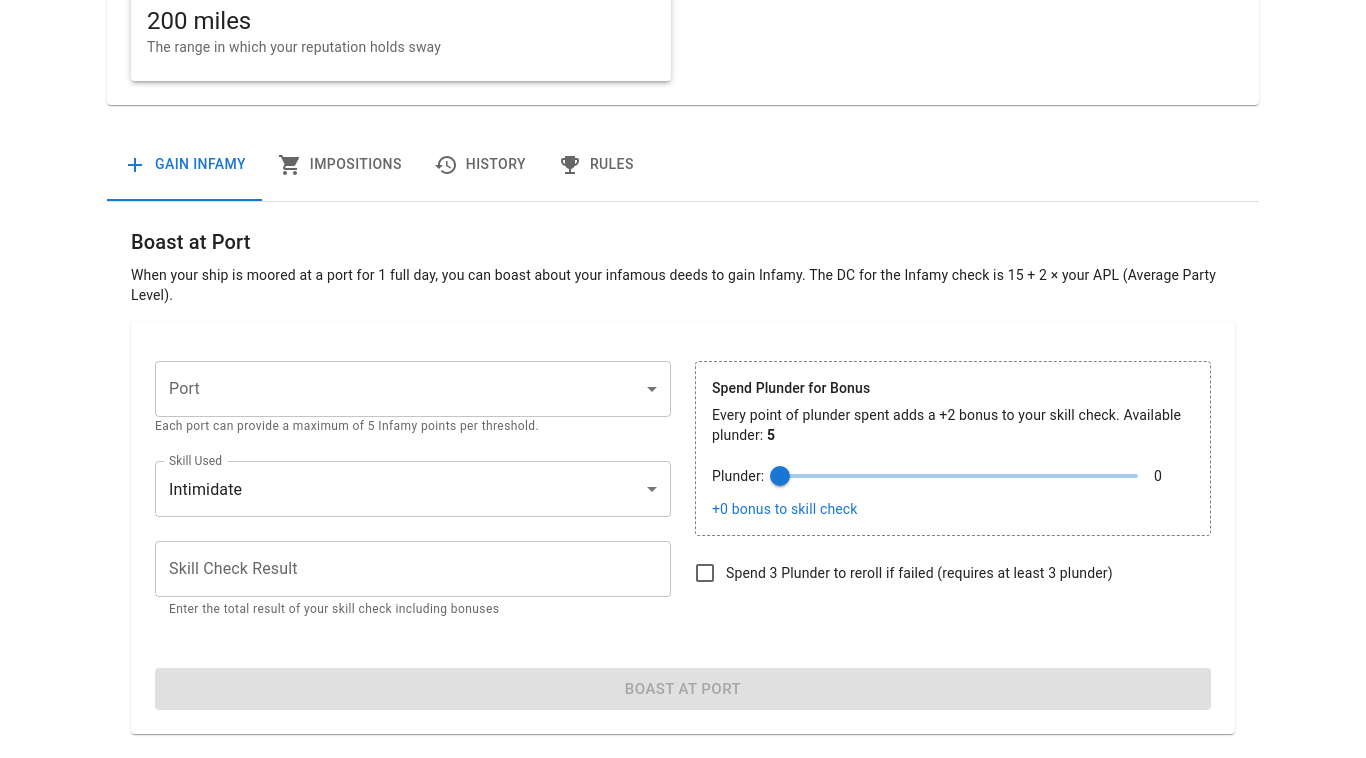
it: Infamy › posts a successful boast and shows the gain
(page scrolled)
Click the dropdown named "Port" at (413, 389), box [155,361,671,417]
(page scrolled)
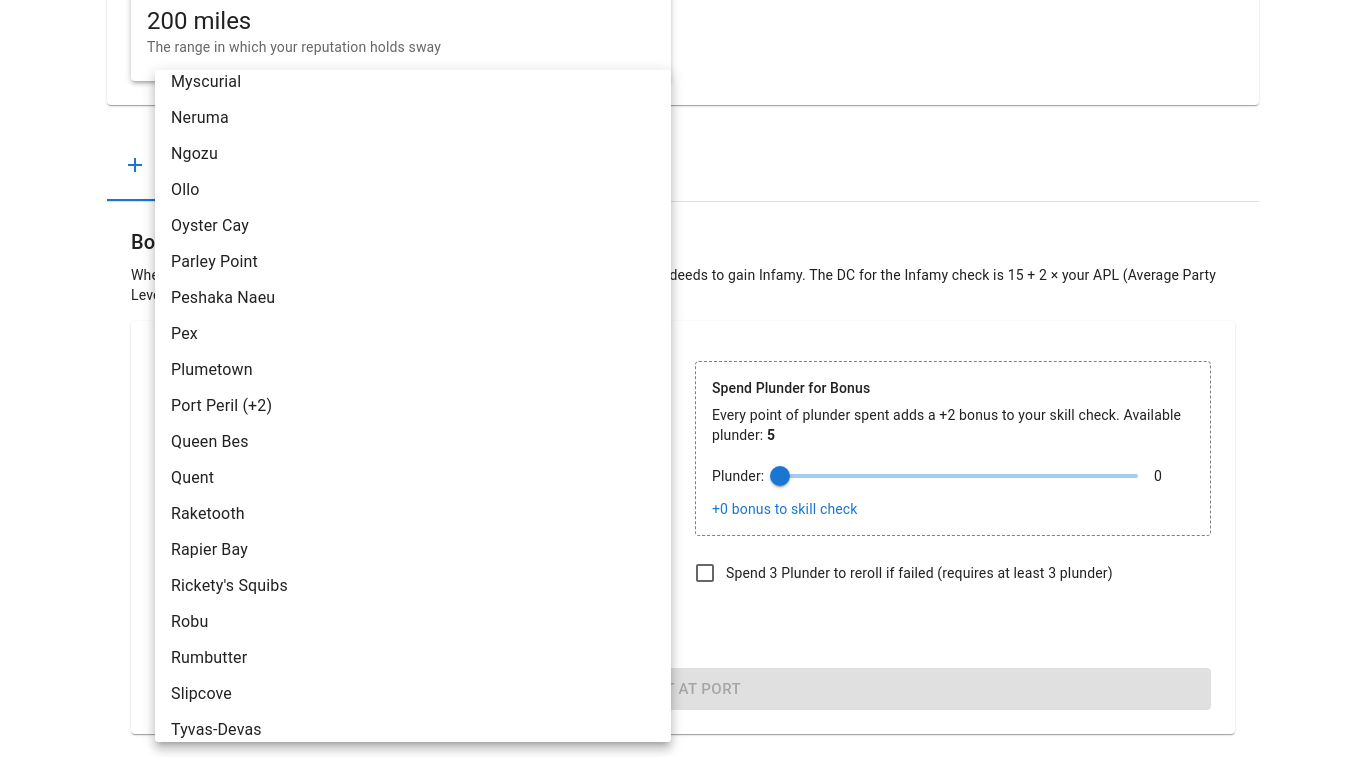
Click the option "Port Peril (+2)" at (222, 406), box [171,396,272,415]
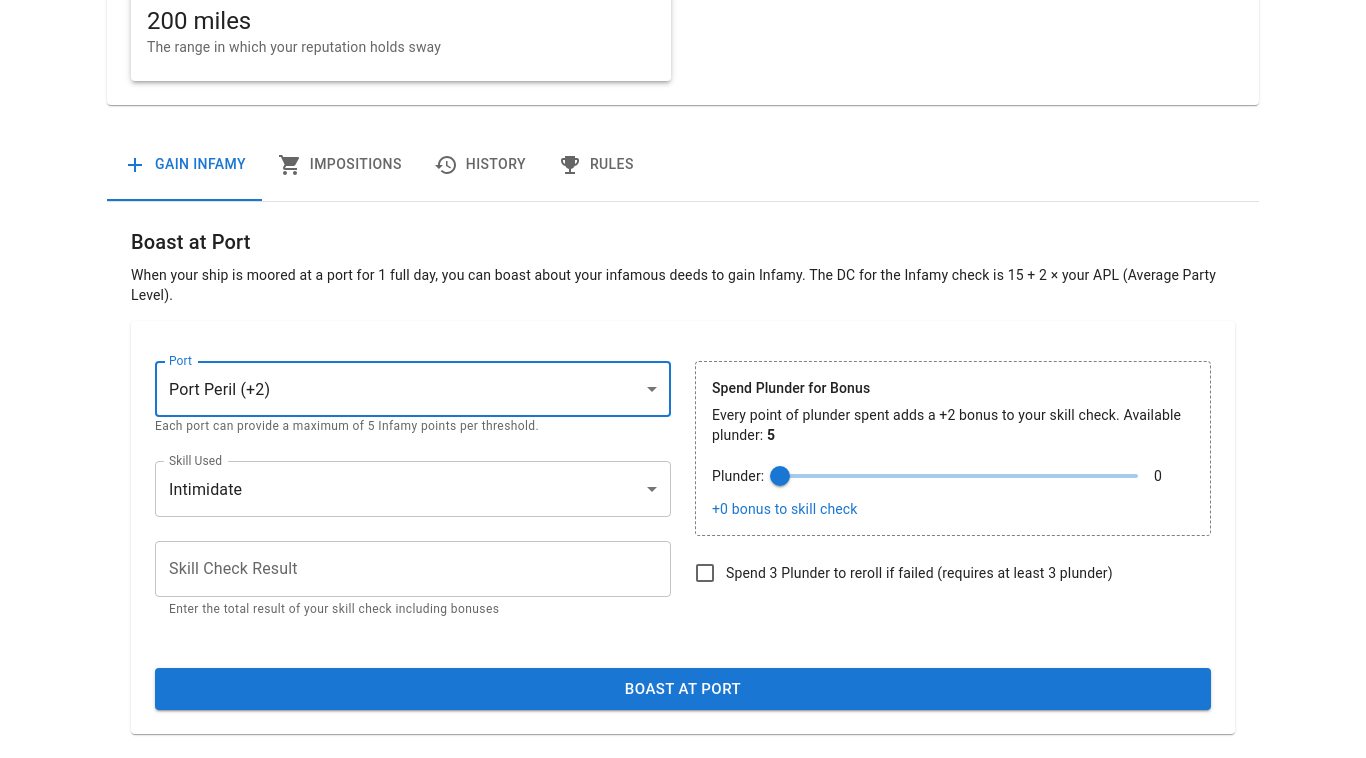
Type "27" into the number field labelled "Skill Check Result" at (413, 569), box [155,541,671,597]
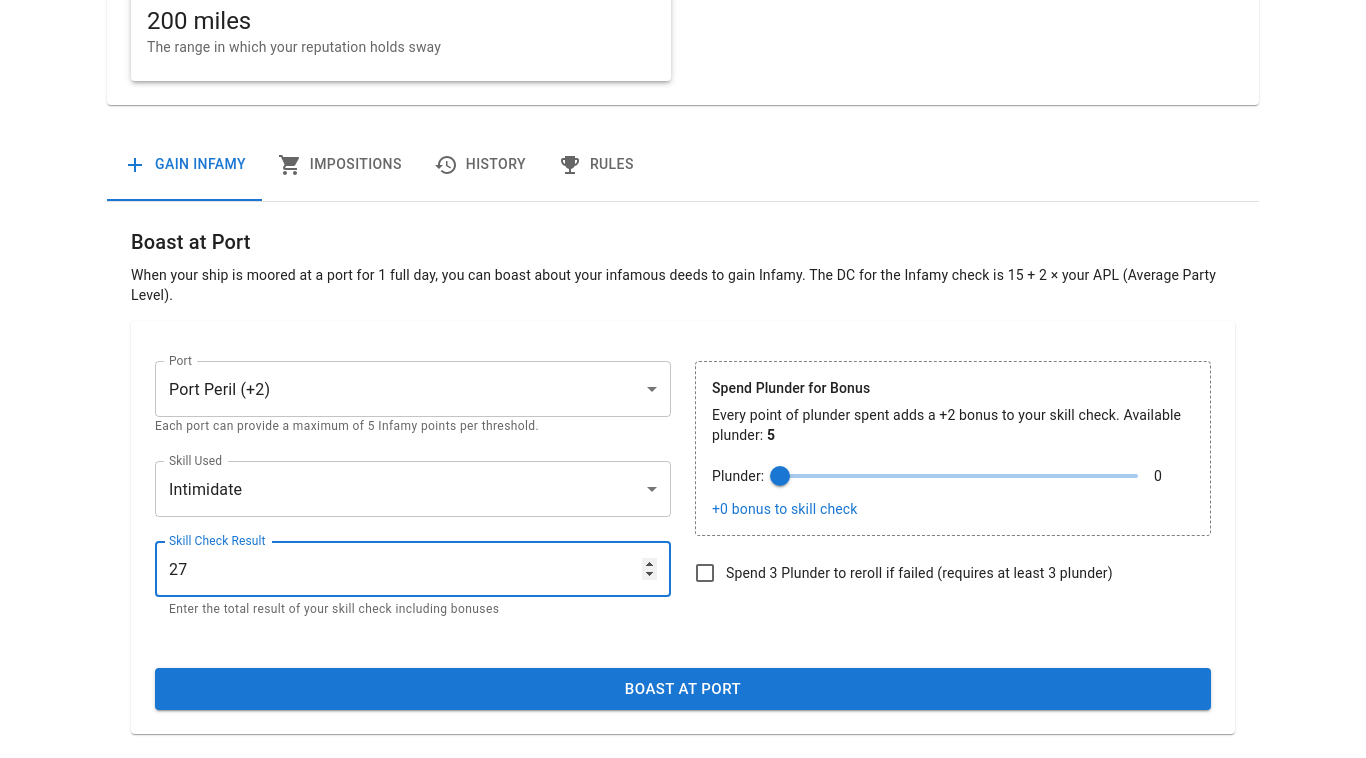
Click the button "Boast at Port" at (683, 689), box [155,668,1211,710]
(page scrolled)
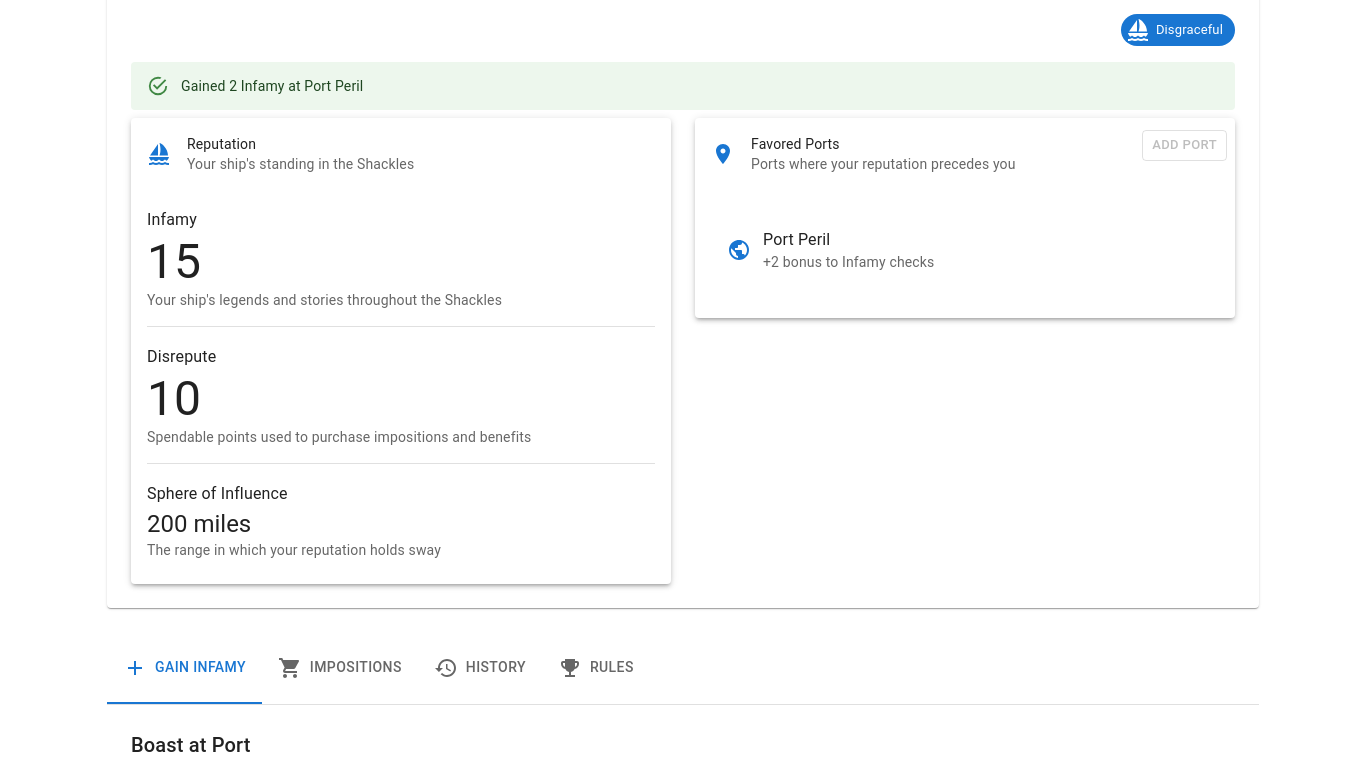
Expected: the text "Gained 2 Infamy at Port Peril" is shown, [181,78,363,94]
